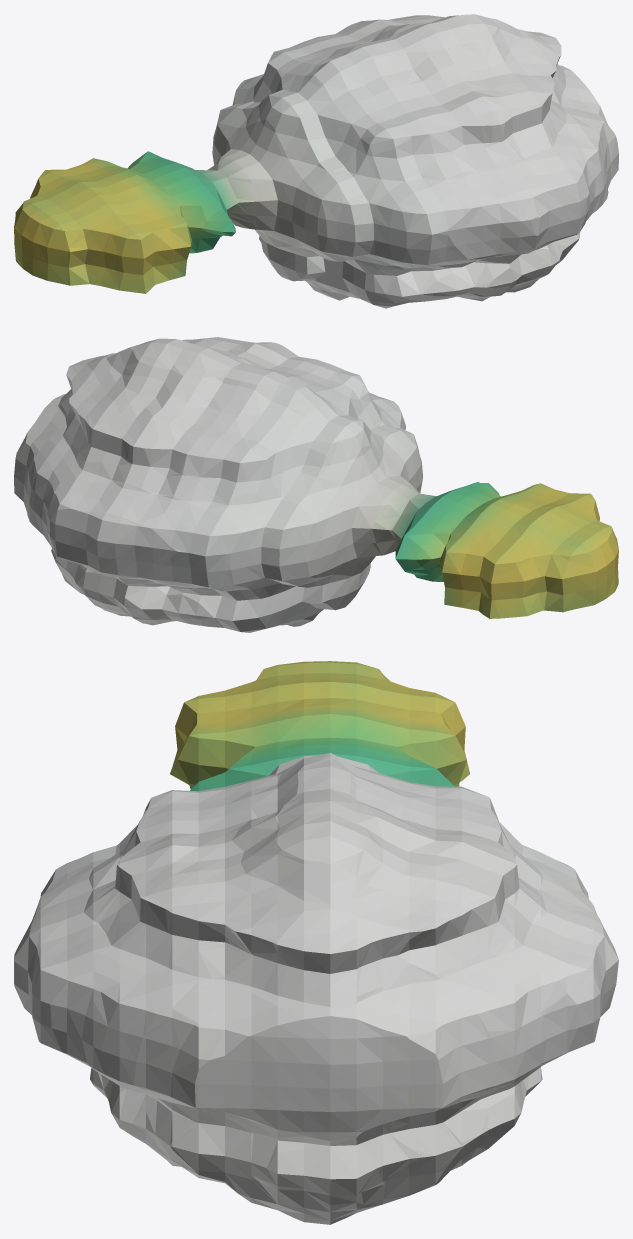
3 views of the same model, one above another, from view 1: azimuth 30°, elevation 25°; view 2: azimuth 150°, elevation 25°; view 3: azimuth 270°, elevation 25° (orthographic). The views are drawn at different scales.
Parts seen in each view (by area): view 1: geometry_0; view 2: geometry_0; view 3: geometry_0.
Part boxes in pixels (x1,y1,x2,y2): geometry_0: (14,14,618,308); geometry_0: (14,337,618,632); geometry_0: (14,661,618,1224).
Bounding box in the file's own units: 1.47 × 0.6516 × 0.9776.
